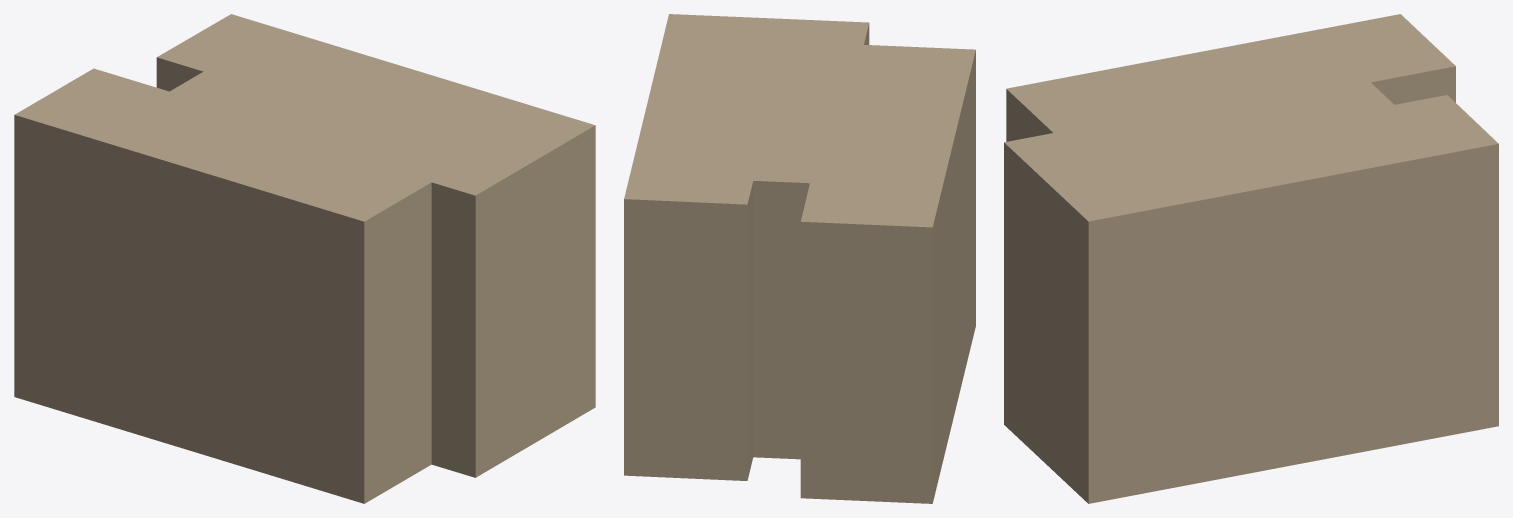
The model's file is bld_106338957.dae.
3 renders of one model, left to right at view 1: azimuth 30°, elevation 25°; view 2: azimuth 150°, elevation 25°; view 3: azimuth 270°, elevation 25°, orthographic. The views are drawn at different scales.
Visible parts, largest first — view 1: bld_106338957; view 2: bld_106338957; view 3: bld_106338957.
Part boxes in pixels (x1=…): bld_106338957: x1=14, y1=14, x2=595, y2=503; bld_106338957: x1=624, y1=14, x2=975, y2=503; bld_106338957: x1=1004, y1=14, x2=1498, y2=503.
Bounding box in the file's own units: 12.61 × 12.7 × 8.
